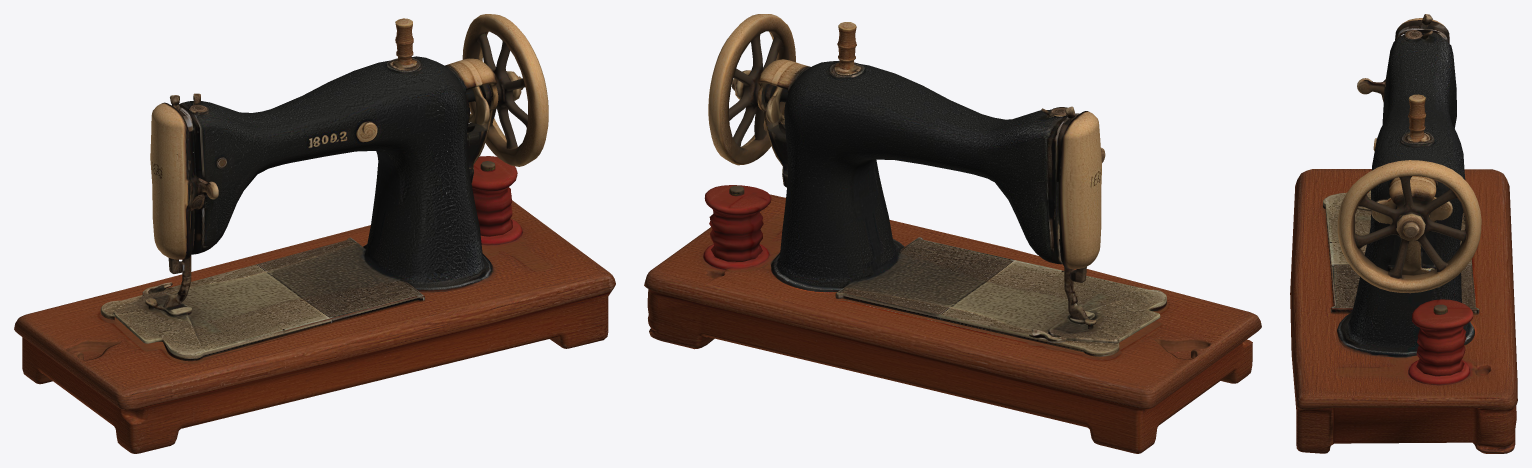
File: sewing-machine.glb
The picture shows the model from 3 angles, left to right: view 1: azimuth 30°, elevation 25°; view 2: azimuth 150°, elevation 25°; view 3: azimuth 270°, elevation 25°; orthographic projection. The views are drawn at different scales.
Parts seen in each view (by area): view 1: a45c0c99_04ec_42e5_b133_1884b587bce9; view 2: a45c0c99_04ec_42e5_b133_1884b587bce9; view 3: a45c0c99_04ec_42e5_b133_1884b587bce9.
Boxes of the visible parts, x1=… form: a45c0c99_04ec_42e5_b133_1884b587bce9: x1=14, y1=14, x2=615, y2=453; a45c0c99_04ec_42e5_b133_1884b587bce9: x1=644, y1=14, x2=1261, y2=453; a45c0c99_04ec_42e5_b133_1884b587bce9: x1=1290, y1=14, x2=1517, y2=453.
Bounding box in the file's own units: 0.9995 × 0.5894 × 0.4175.
1 material, 1 textured.
